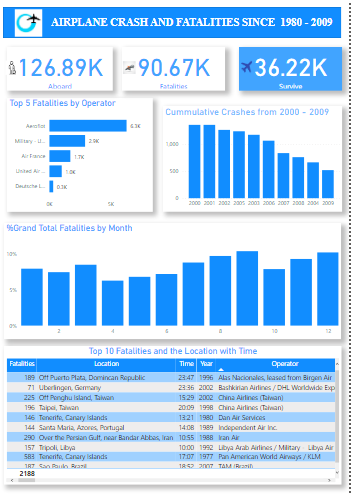

This screenshot's page, from the dashboard's own definition file:
{"tool":"powerbi","page":{"name":"Dashboard ","canvas":[777,1100],"ordinal":1},"visuals":[{"type":"shape","box":[9.5,15.3,751.9,68.7],"z":0},{"type":"columnChart","title":"Cummulative Crashes from 2000 - 2009","fields":{"Y":["Sum(Airplane_Crashes_and_Fatalities_Since_1908.Fatalities)"],"Category":["Airplane_Crashes_and_Fatalities_Since_1908.Year"]},"box":[364.7,235.3,398,235.3],"z":1000},{"type":"barChart","title":"Top 5 Fatalities by Operator","fields":{"Y":["Sum(Airplane_Crashes_and_Fatalities_Since_1908.Fatalities)"],"Category":["Airplane_Crashes_and_Fatalities_Since_1908.Operator"]},"box":[17.8,217.8,324.4,253.3],"z":2000},{"type":"image","box":[11,15.1,108.5,71.5],"z":3000},{"type":"textbox","box":[80.2,30.5,696.6,53.4],"z":4000},{"type":"card","fields":{"Values":["Sum(Airplane_Crashes_and_Fatalities_Since_1908.Aboard)"]},"box":[17.2,105,234.7,97.3],"z":5000},{"type":"image","box":[9.5,124,42,51.5],"z":6000},{"type":"card","fields":{"Values":["Sum(Airplane_Crashes_and_Fatalities_Since_1908.Fatalities)"]},"box":[272.9,105,229,97.3],"z":7000},{"type":"image","box":[265.3,131.7,49.6,38.2],"z":8000},{"type":"card","fields":{"Values":["Sum(Airplane_Crashes_and_Fatalities_Since_1908.Survive)"]},"box":[532.4,105,229,97.3],"z":9000},{"type":"image","box":[530.5,126,38.2,43.9],"z":10000},{"type":"clusteredColumnChart","title":"%Grand Total Fatalities by Month","fields":{"Y":["Sum(Airplane_Crashes_and_Fatalities_Since_1908.Fatalities)"],"Category":["Airplane_Crashes_and_Fatalities_Since_1908.Month"]},"box":[11.1,495.6,748.9,257.8],"z":11000},{"type":"tableEx","title":"Top 10 Fatalities and the Location with Time","fields":{"Values":["Sum(Airplane_Crashes_and_Fatalities_Since_1908.Fatalities)","Airplane_Crashes_and_Fatalities_Since_1908.Location","Airplane_Crashes_and_Fatalities_Since_1908.Time","Airplane_Crashes_and_Fatalities_Since_1908.Year","Airplane_Crashes_and_Fatalities_Since_1908.Operator","Airplane_Crashes_and_Fatalities_Since_1908.Summary"]},"box":[10.5,768.4,750,307.9],"z":12000}]}

Visuals, with their boxes in screenshot pixels (x1, y1, x2, y2), scaled from the page's 777x1100 canvas onto the 351x494 screenshot:
shape: box=[4, 7, 344, 38]
"Cummulative Crashes from 2000 - 2009" columnChart: box=[165, 106, 345, 211]
"Top 5 Fatalities by Operator" barChart: box=[8, 98, 155, 212]
image: box=[5, 7, 54, 39]
textbox: box=[36, 14, 350, 38]
card - Sum(Airplane_Crashes_and_Fatalities_Since_1908.Aboard): box=[8, 47, 114, 91]
image: box=[4, 56, 23, 79]
card - Sum(Airplane_Crashes_and_Fatalities_Since_1908.Fatalities): box=[123, 47, 227, 91]
image: box=[120, 59, 142, 76]
card - Sum(Airplane_Crashes_and_Fatalities_Since_1908.Survive): box=[241, 47, 344, 91]
image: box=[240, 57, 257, 76]
"%Grand Total Fatalities by Month" clusteredColumnChart: box=[5, 223, 343, 338]
"Top 10 Fatalities and the Location with Time" tableEx: box=[5, 345, 344, 483]
